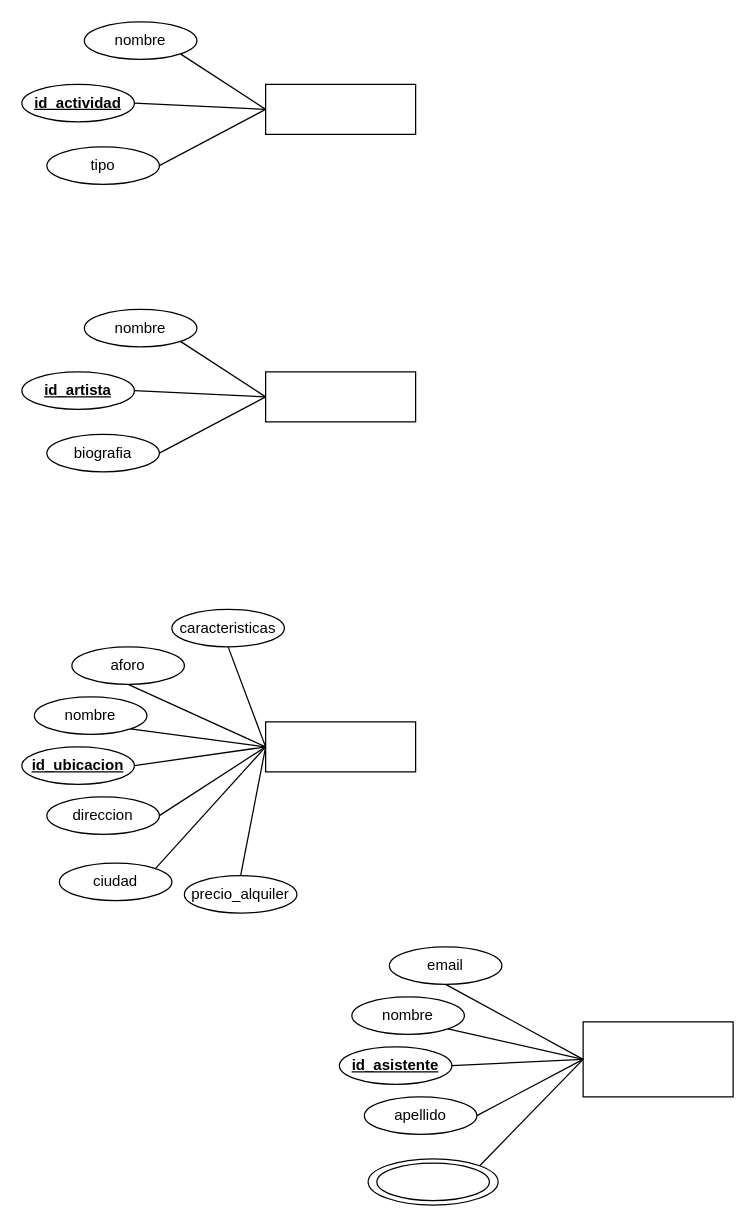
Image size: 755x1228. Some labels were removed from this diagram. Here are the shapes that lost their labels. From the top down, the box of each, then its label:
(264, 83, 416, 134): Actividad
(264, 371, 416, 422): Artista
(264, 721, 416, 772): Ubicacion
(582, 1021, 733, 1097): Asistente
(376, 1162, 489, 1201): telefono
